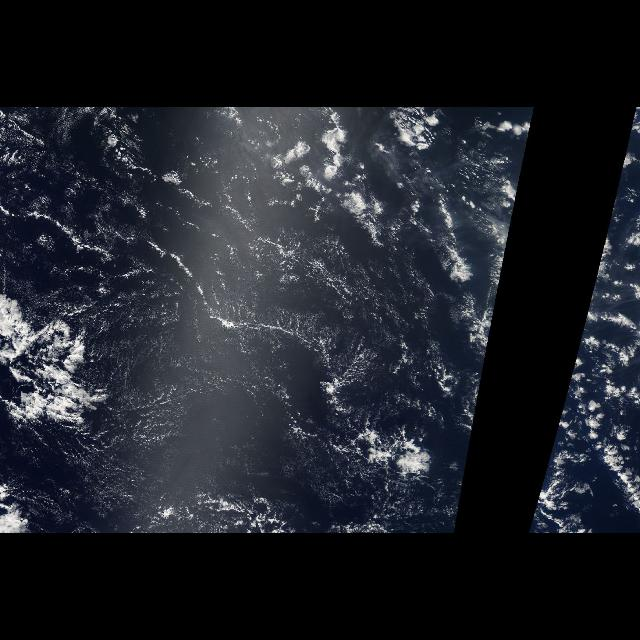Sugar: (82, 111, 494, 436)
